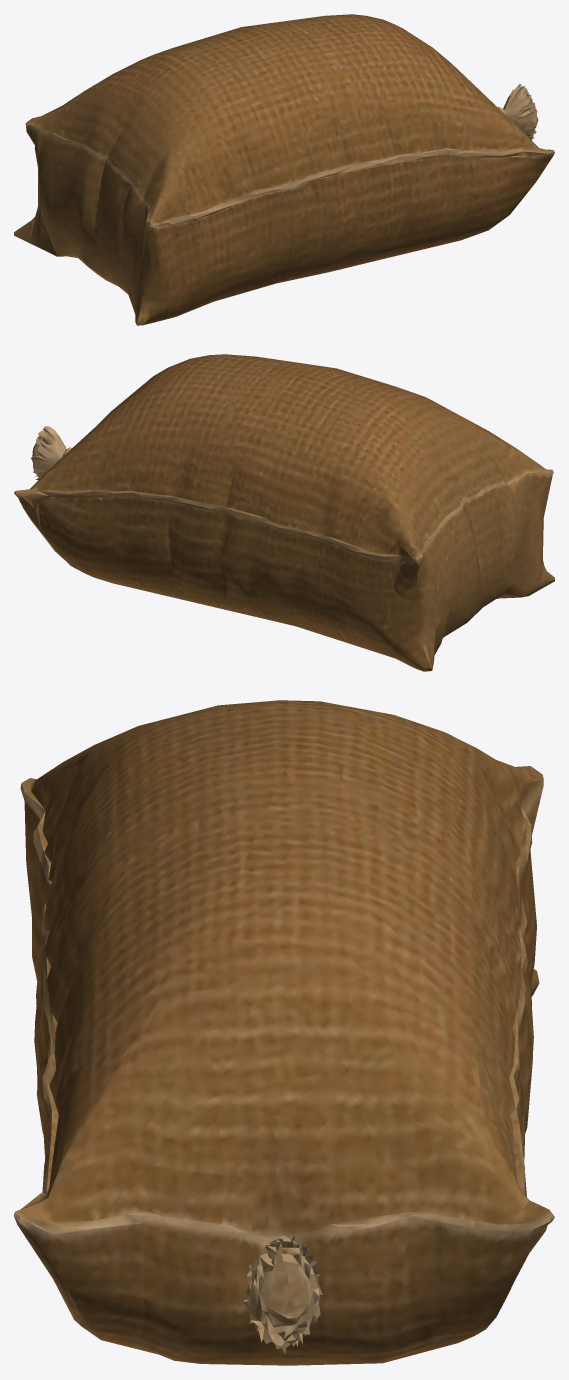
The model's file is sandbag_nest.glb.
The picture shows the model from 3 angles, top to bottom: view 1: azimuth 30°, elevation 25°; view 2: azimuth 150°, elevation 25°; view 3: azimuth 270°, elevation 25°; orthographic projection. The views are drawn at different scales.
Visible parts, largest first — view 1: main; view 2: main; view 3: main.
Part boxes in pixels (x1,y1,x2,y2): main: (14, 14, 554, 325); main: (14, 354, 554, 671); main: (14, 700, 554, 1365).
Size of the model in its own units: 0.6313 by 0.2861 by 0.3247.
1 material, 1 textured.
